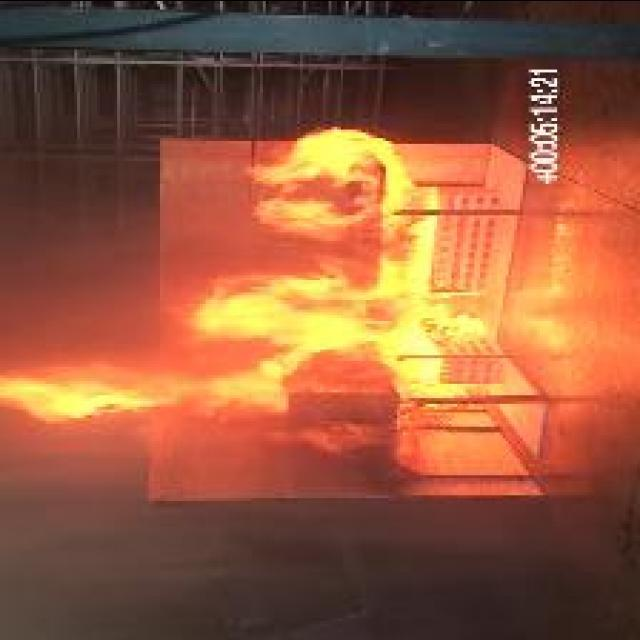Fire: (1, 124, 488, 450)
